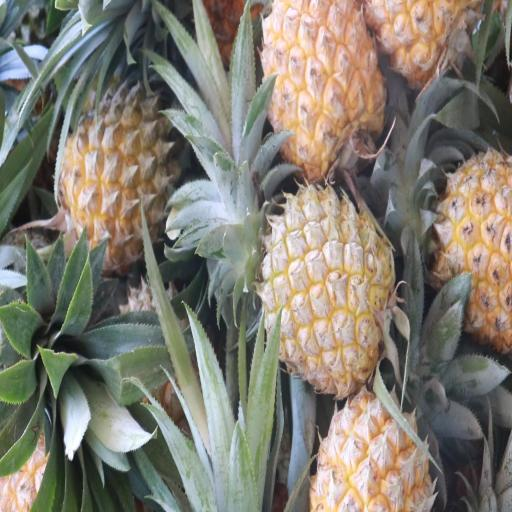------------------------------: (59, 87, 182, 259)
Pineapple - v8 v1: (263, 183, 394, 398), (265, 0, 385, 180), (312, 371, 448, 512), (425, 145, 512, 336)
